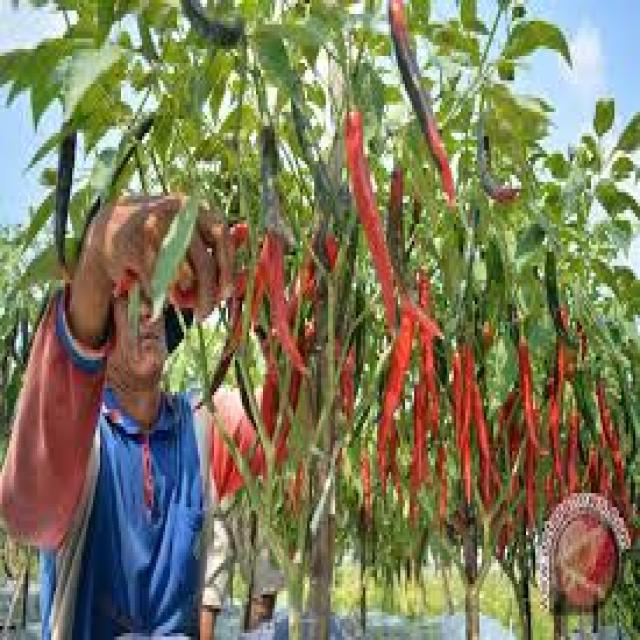Mosaic_virus: (239, 205, 640, 499), (0, 0, 543, 207)
